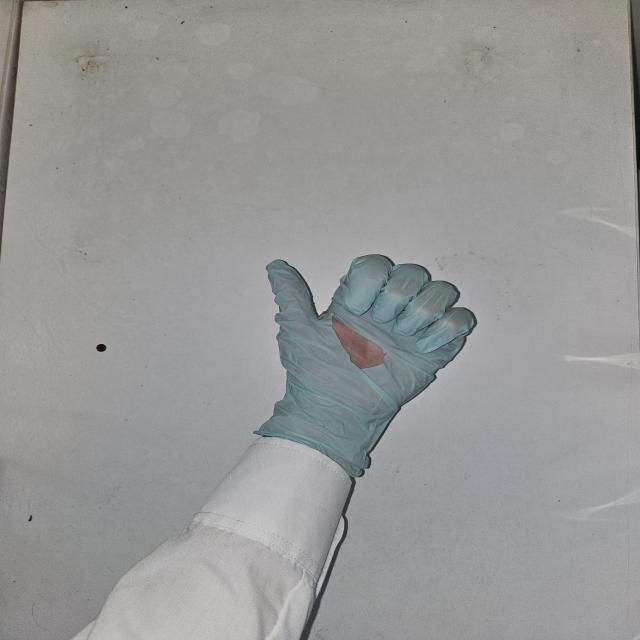gloves_damaged: (249, 250, 481, 472)
